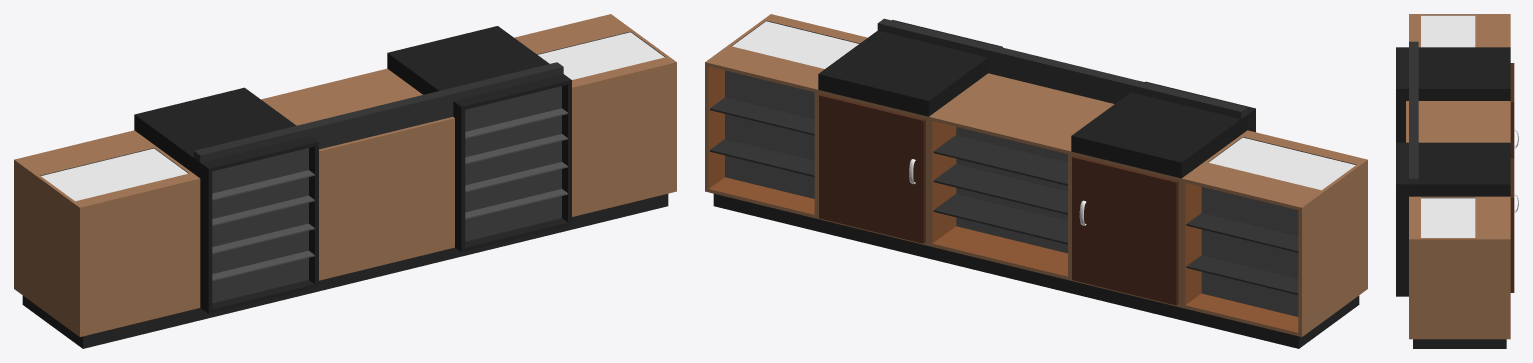
The model's file is Double Checkout #1.fbx.
3 views of the same model, side by side, from view 1: azimuth 30°, elevation 25°; view 2: azimuth 150°, elevation 25°; view 3: azimuth 270°, elevation 25° (orthographic). The views are drawn at different scales.
Parts seen in each view (by area): view 1: Double Checkout #1; view 2: Double Checkout #1; view 3: Double Checkout #1.
Boxes of the visible parts, x1,y1,x2,y2 form: Double Checkout #1: (14,14,676,348); Double Checkout #1: (705,14,1367,348); Double Checkout #1: (1396,14,1518,348).
Size of the model in its own units: 454 by 122 by 105.
Materials: 2 (1 with a texture image).
